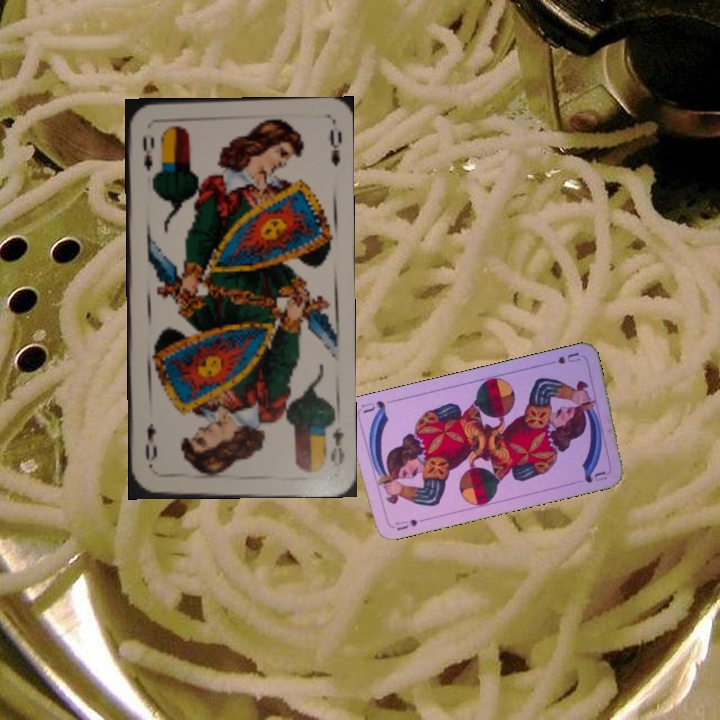EO: (326, 423, 347, 470), (139, 130, 157, 173)
SU: (542, 348, 583, 367), (387, 515, 420, 533)
